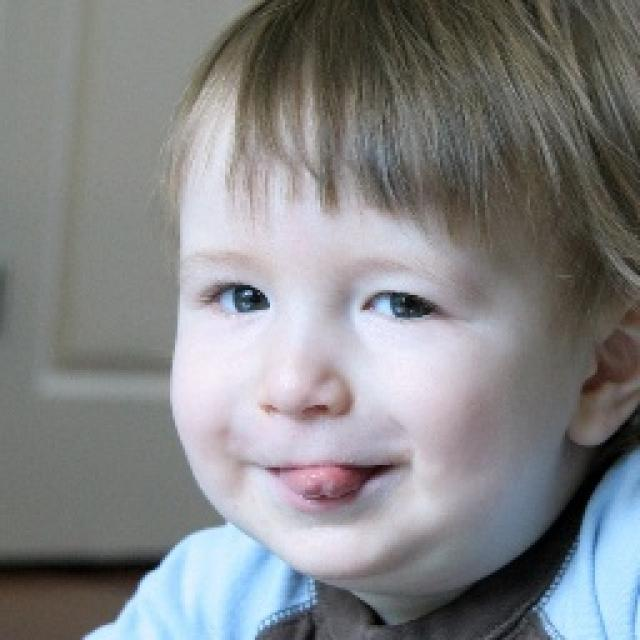earlobe: (565, 273, 640, 445)
